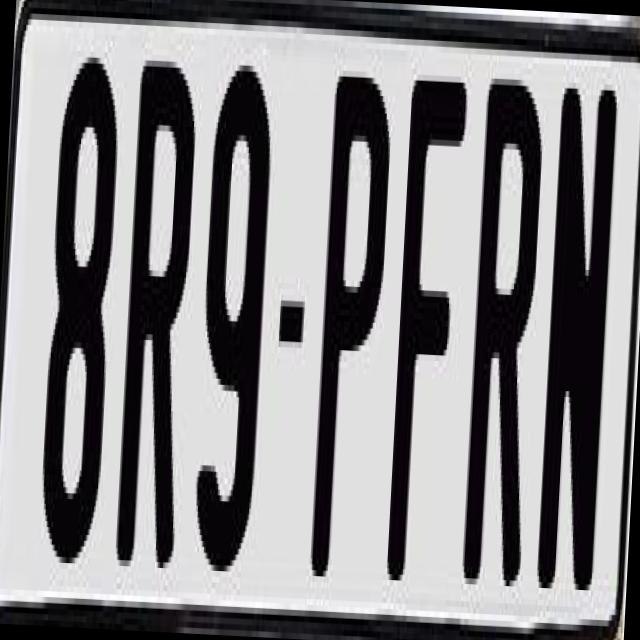8: (38, 56, 127, 565)
9: (192, 52, 283, 573)
F: (383, 80, 464, 583)
N: (532, 82, 622, 597)
P: (306, 64, 400, 590)
R: (461, 72, 549, 598), (110, 49, 200, 558)
